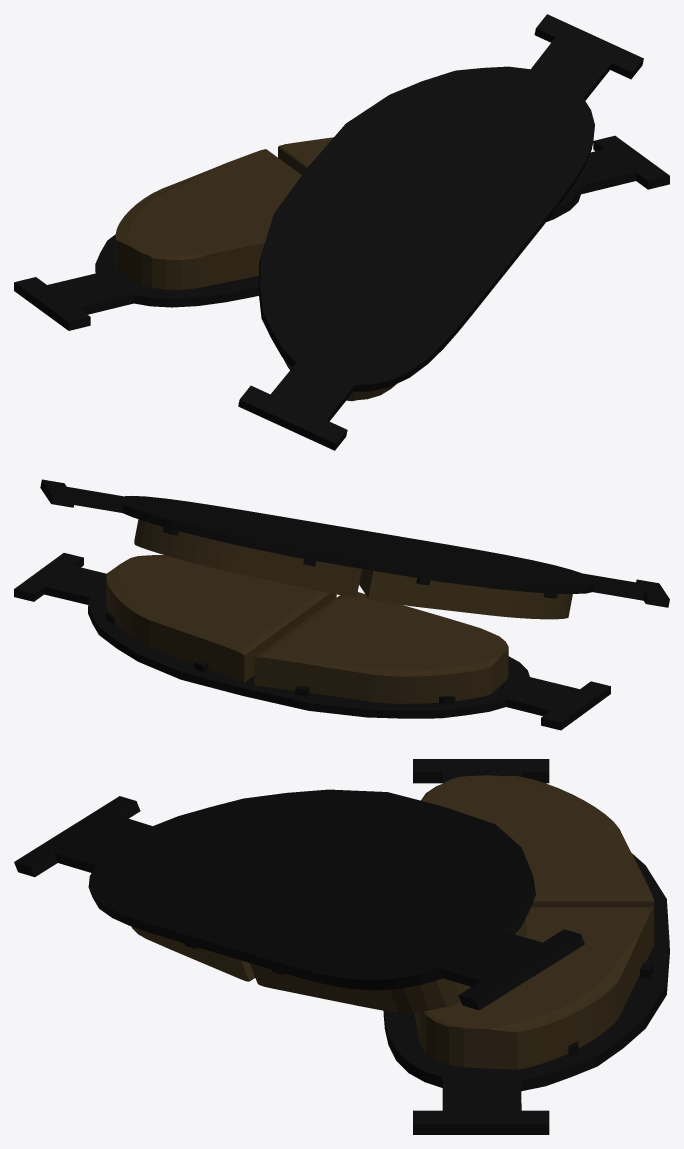
Rendered from brake_pads.fbx.
The picture shows the model from 3 angles, top to bottom: view 1: azimuth 30°, elevation 25°; view 2: azimuth 150°, elevation 25°; view 3: azimuth 270°, elevation 25°; orthographic projection. The views are drawn at different scales.
Visible parts, largest first — view 1: bottom_right, friction_surface_left, bottom_left; view 2: friction_surface_left, bottom_right, bottom_left, friction_surface_right; view 3: bottom_right, friction_surface_left, bottom_left, friction_surface_right.
Boxes of the visible parts, <box> form: bottom_right: <box>238,14,643,450</box>; friction_surface_left: <box>115,137,333,289</box>; bottom_left: <box>14,135,669,330</box>; friction_surface_left: <box>106,555,508,703</box>; bottom_right: <box>40,479,669,607</box>; bottom_left: <box>14,553,610,730</box>; friction_surface_right: <box>134,519,572,619</box>; bottom_right: <box>14,789,584,1010</box>; friction_surface_left: <box>414,775,654,1069</box>; bottom_left: <box>383,759,669,1134</box>; friction_surface_right: <box>131,919,526,1012</box>.
Size of the model in its own units: 2186 by 574 by 1660.
